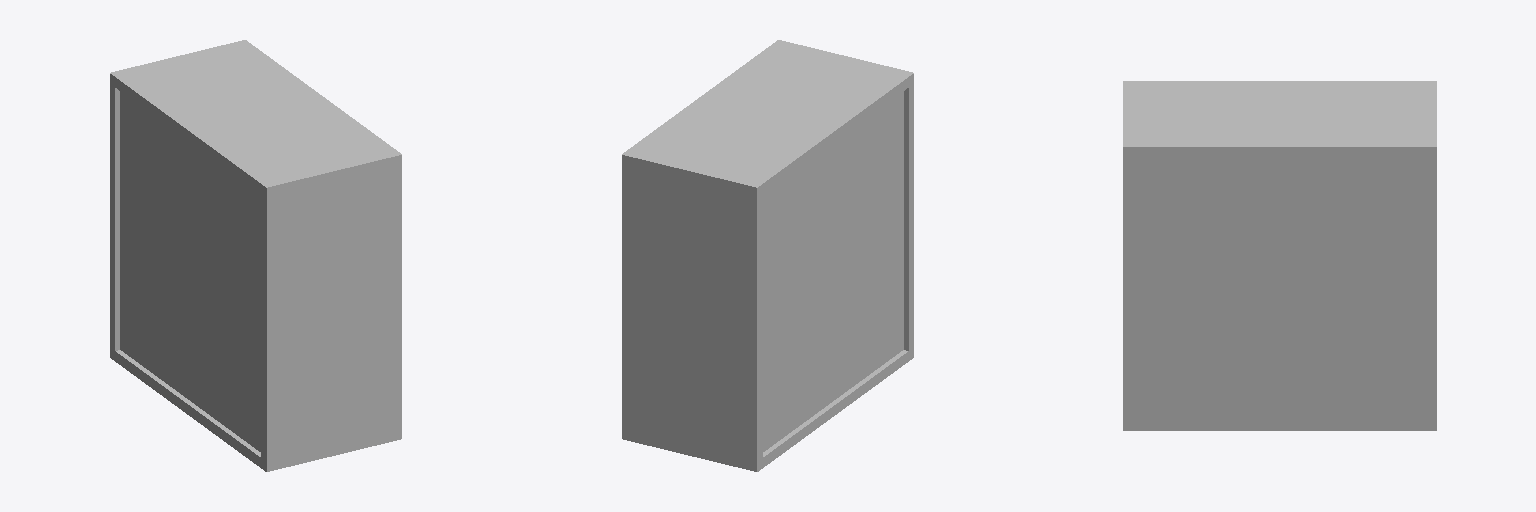
Rendered from display2x2.obj.
3 renders of one model, left to right at view 1: azimuth 30°, elevation 25°; view 2: azimuth 150°, elevation 25°; view 3: azimuth 270°, elevation 25°, orthographic.
Parts seen in each view (by area): view 1: Cube_Cube.005; view 2: Cube_Cube.005; view 3: Cube_Cube.005.
Boxes of the visible parts, box(x1,y1,x2,y2) form: Cube_Cube.005: box(110, 40, 401, 471); Cube_Cube.005: box(622, 40, 913, 471); Cube_Cube.005: box(1123, 81, 1436, 430).
Size of the model in its own units: 1 by 2 by 2.